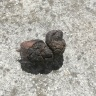Dog: (20, 31, 65, 71)
